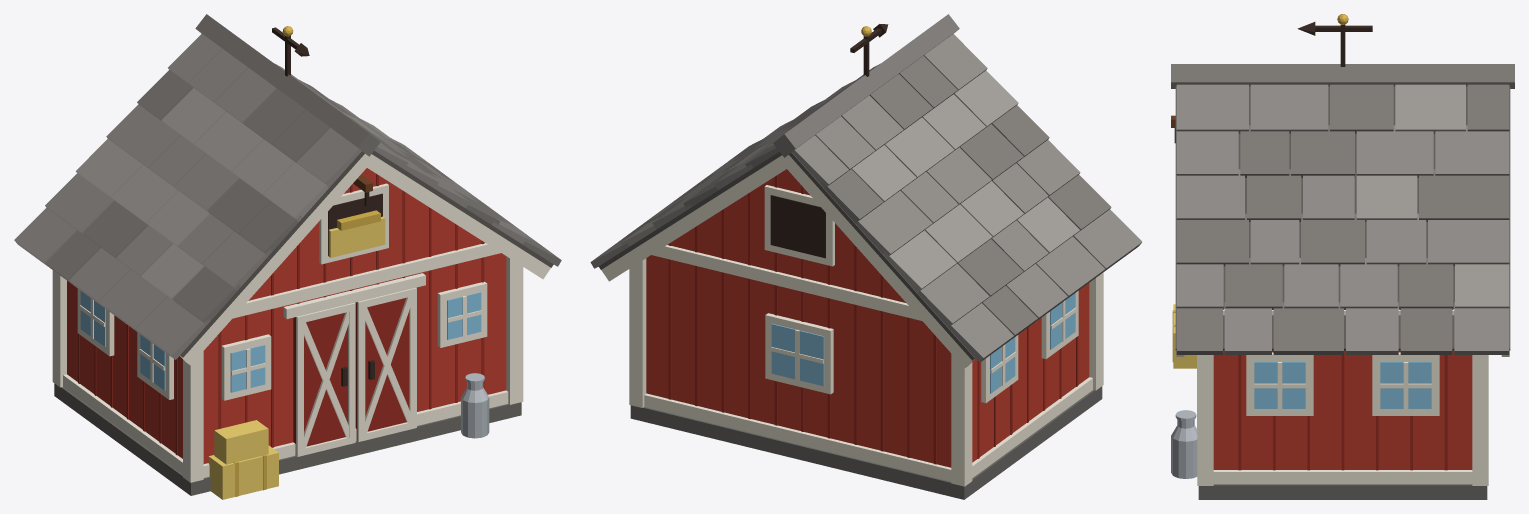
Rendered from barn.glb.
The picture shows the model from 3 angles, left to right: view 1: azimuth 30°, elevation 25°; view 2: azimuth 150°, elevation 25°; view 3: azimuth 270°, elevation 25°; orthographic projection. The views are drawn at different scales.
Parts seen in each view (by area): view 1: Barn_Roof, Barn_Trim, Barn_Body, Barn_Props; view 2: Barn_Roof, Barn_Body, Barn_Trim; view 3: Barn_Roof, Barn_Body, Barn_Trim, Barn_Props.
Part boxes in pixels (x1,y1,x2,y2): Barn_Roof: (14, 14, 561, 365); Barn_Trim: (52, 174, 523, 482); Barn_Body: (54, 168, 521, 495); Barn_Props: (208, 373, 489, 499); Barn_Roof: (590, 14, 1141, 368); Barn_Body: (630, 169, 1102, 499); Barn_Trim: (629, 185, 1103, 486); Barn_Roof: (1171, 14, 1514, 356); Barn_Body: (1198, 350, 1487, 499); Barn_Trim: (1171, 115, 1488, 485); Barn_Props: (1171, 304, 1197, 478).
Size of the model in its own units: 4.15 by 3.86 by 3.
